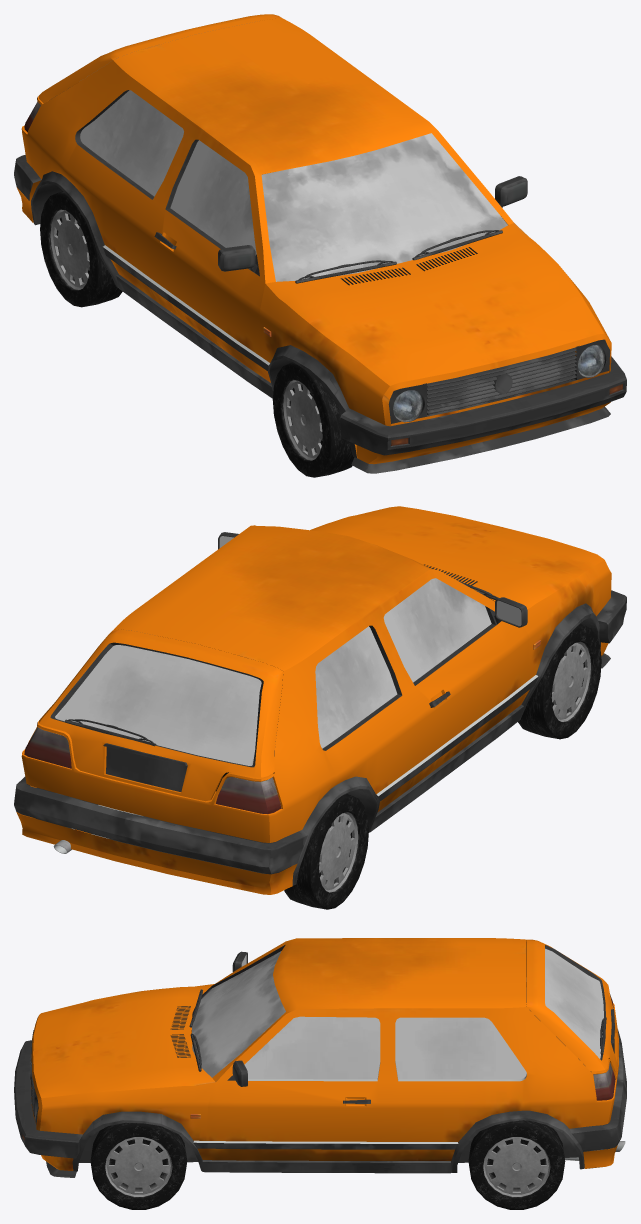
The model's file is cv-golf2.glb.
The picture shows the model from 3 angles, top to bottom: view 1: azimuth 30°, elevation 25°; view 2: azimuth 150°, elevation 25°; view 3: azimuth 270°, elevation 25°; orthographic projection. The views are drawn at different scales.
Visible parts, largest first — view 1: Object_2; view 2: Object_2, lamp_tail_R, lamp_tail_L; view 3: Object_2.
Boxes of the visible parts, x1,y1,x2,y2 form: Object_2: (14, 14, 626, 477); Object_2: (14, 506, 626, 909); lamp_tail_R: (216, 777, 267, 814); lamp_tail_L: (24, 728, 71, 768); Object_2: (14, 938, 626, 1209).
Size of the model in its own units: 1.87 by 1.36 by 3.99.
Materials: 10 (9 with a texture image).
